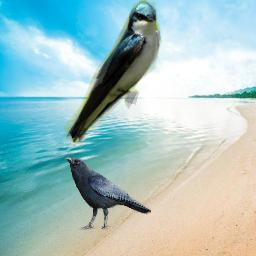Crow: (64, 157, 151, 230)
Swallow: (64, 0, 162, 148)
